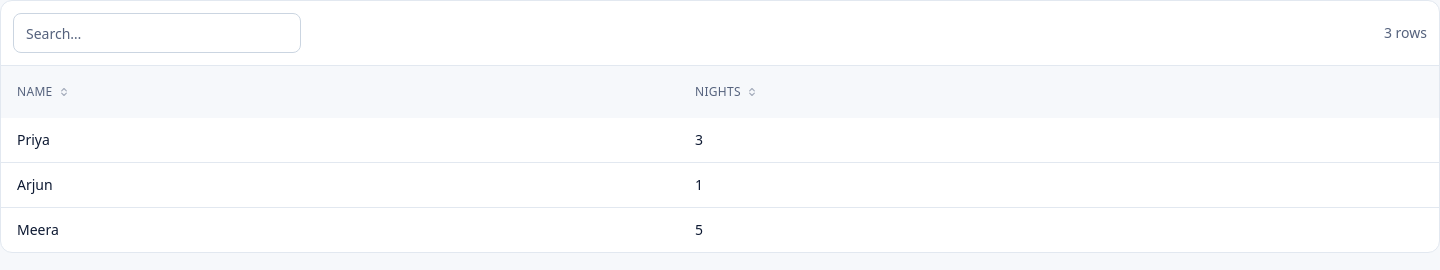
DataTable › explains when nothing matches
Type "zzz" into the search field at (157,33), box 13,13 -> 301,53
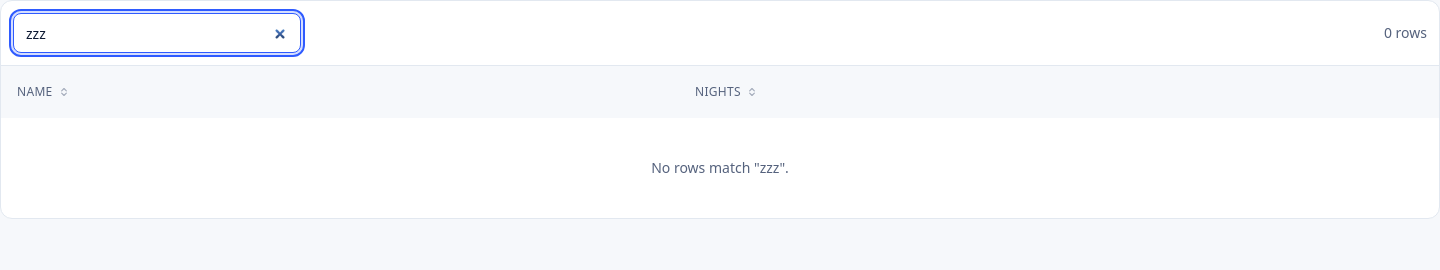
Result: the text "No rows match \"zzz\"." is shown at 1,118 -> 1439,218
